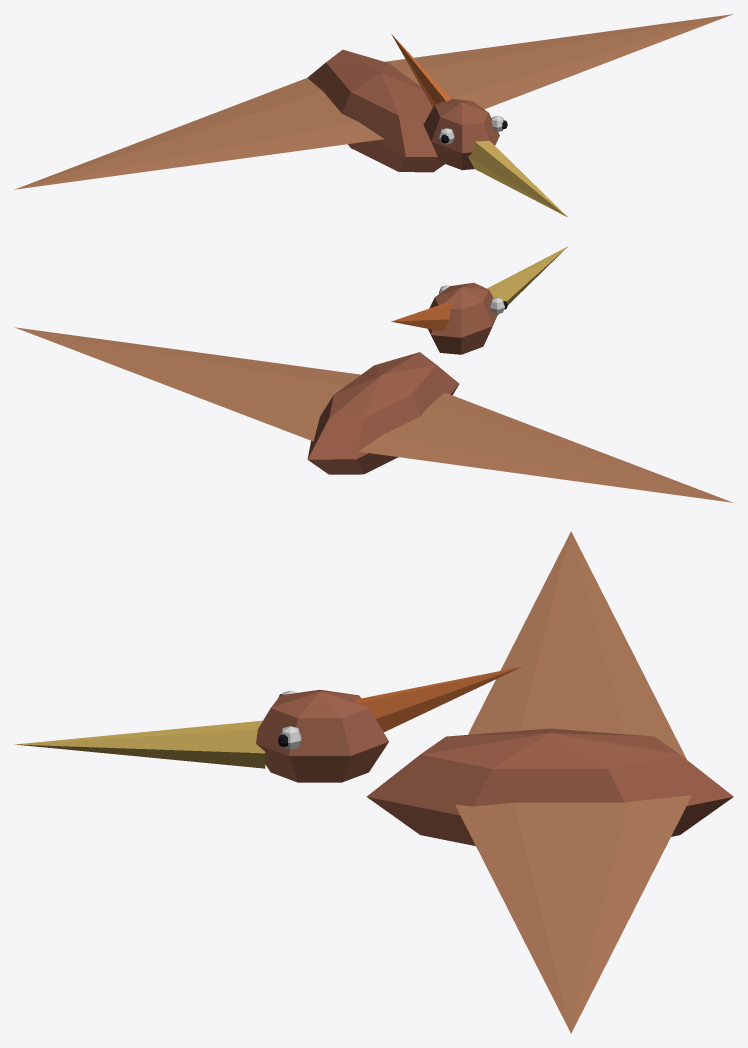
The model's file is pterosaur.glb.
The picture shows the model from 3 angles, top to bottom: view 1: azimuth 30°, elevation 25°; view 2: azimuth 150°, elevation 25°; view 3: azimuth 270°, elevation 25°; orthographic projection. The views are drawn at different scales.
Visible parts, largest first — view 1: pterosaur; view 2: pterosaur; view 3: pterosaur.
Part boxes in pixels (x1,y1,x2,y2): pterosaur: [15, 14, 732, 217]; pterosaur: [15, 246, 732, 502]; pterosaur: [14, 531, 733, 1033].
Size of the model in its own units: 2.84 by 0.4755 by 1.72.
